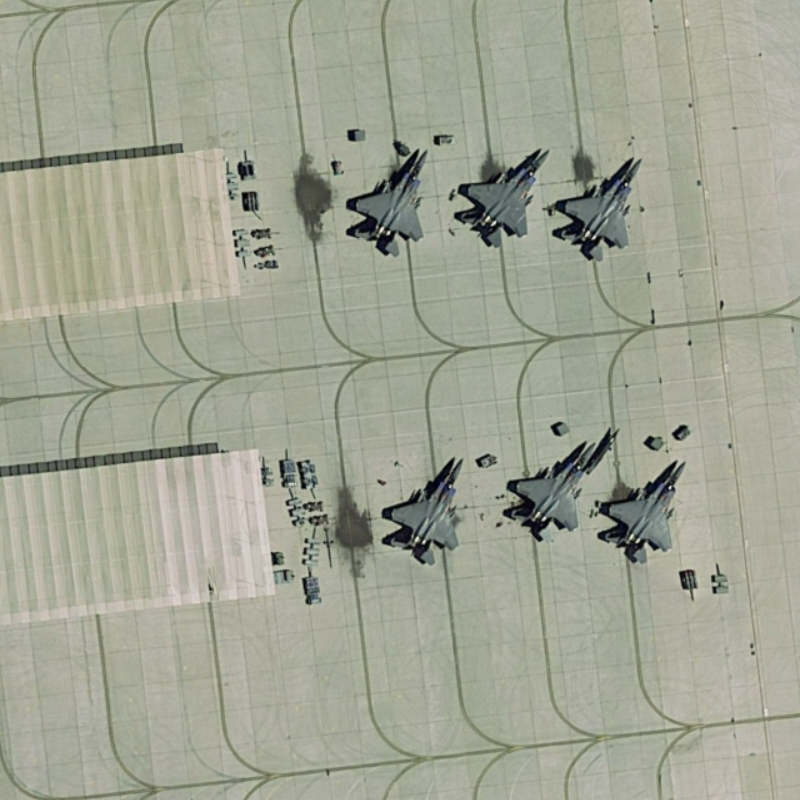A13: (371, 444, 479, 571), (338, 133, 439, 259), (594, 455, 696, 572), (548, 151, 648, 262), (461, 143, 557, 253), (503, 433, 600, 541)
